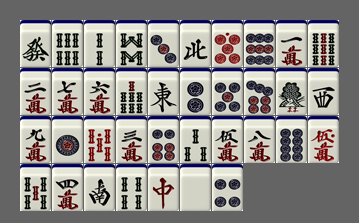0m: (308, 116, 339, 163)
0p: (212, 20, 243, 67)
0s: (84, 116, 115, 163)
1m: (276, 20, 307, 67)
1p: (52, 116, 83, 163)
1s: (276, 68, 307, 115)
1z: (148, 68, 179, 115)
2m: (20, 68, 51, 115)
2p: (180, 68, 211, 115)
2s: (84, 20, 115, 67)
2z: (84, 164, 115, 211)
3m: (116, 116, 147, 163)
3p: (148, 20, 179, 67)
3s: (180, 116, 211, 163)
3z: (308, 68, 339, 115)
4m: (52, 164, 83, 211)
4p: (212, 164, 243, 211)
4s: (116, 164, 147, 211)
4z: (180, 20, 211, 67)
5m: (212, 116, 243, 163)
5p: (212, 68, 243, 115)
5s: (20, 164, 51, 211)
5z: (180, 164, 211, 211)
6m: (84, 68, 115, 115)
6p: (148, 116, 179, 163)
6s: (52, 20, 83, 67)
6z: (20, 20, 51, 67)
7m: (52, 68, 83, 115)
7p: (244, 68, 275, 115)
7s: (116, 68, 147, 115)
7z: (148, 164, 179, 211)
8m: (244, 116, 275, 163)
8p: (276, 116, 307, 163)
8s: (116, 20, 147, 67)
9m: (20, 116, 51, 163)
9p: (244, 20, 275, 67)
9s: (308, 20, 339, 67)
